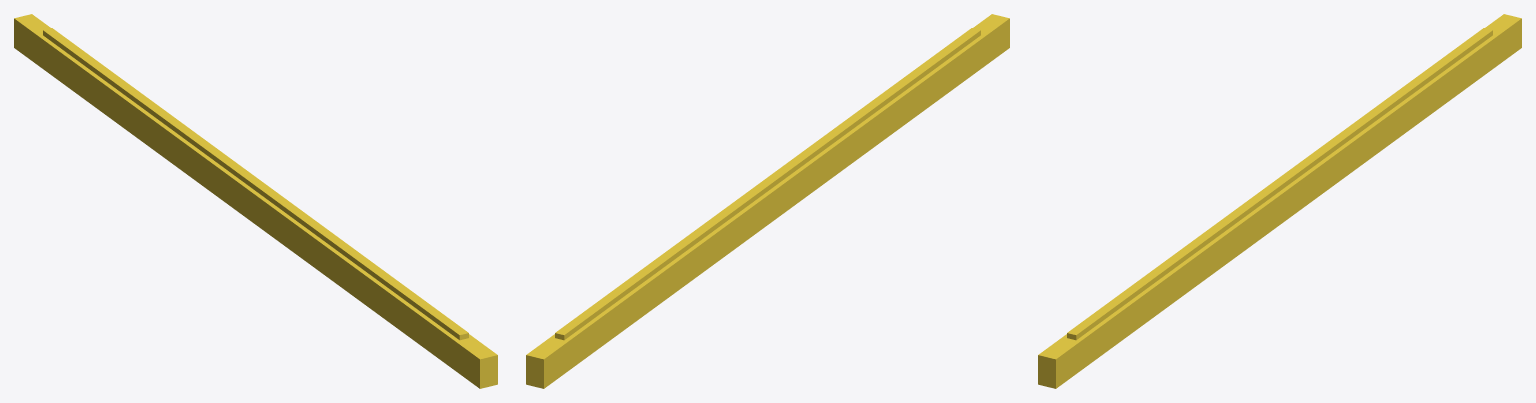
File: level1.6.fbx
3 renders of one model, left to right at view 1: azimuth 30°, elevation 25°; view 2: azimuth 150°, elevation 25°; view 3: azimuth 330°, elevation 25°, orthographic.
Parts seen in each view (by area): view 1: Cube.006; view 2: Cube.006; view 3: Cube.006.
Boxes of the visible parts, left/top/right/bottom form: Cube.006: left=14, top=14, right=497, bottom=388; Cube.006: left=526, top=14, right=1009, bottom=388; Cube.006: left=1038, top=14, right=1521, bottom=388.
Size of the model in its own units: 44.98 by 83.41 by 2032.
